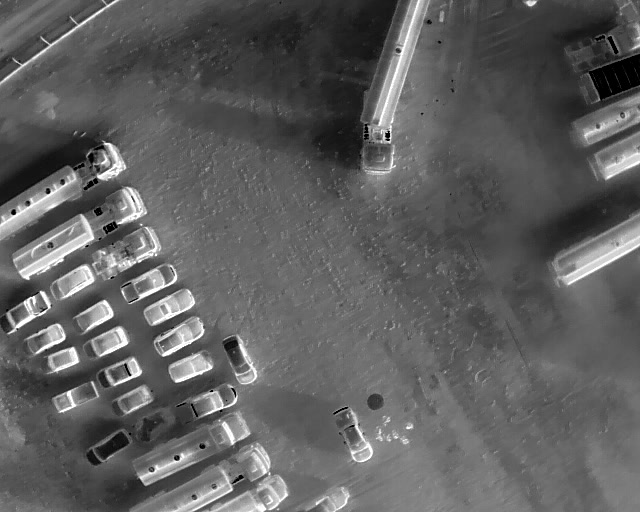car: (118, 264, 179, 305), (177, 381, 237, 421), (0, 290, 53, 333), (334, 406, 373, 463), (153, 315, 206, 355), (84, 426, 133, 465), (221, 334, 258, 385), (144, 288, 195, 325), (79, 326, 132, 360), (48, 262, 94, 300), (94, 354, 144, 388), (18, 323, 65, 358), (168, 347, 213, 382), (51, 380, 100, 412), (32, 345, 80, 377), (70, 299, 115, 332), (295, 484, 349, 511), (108, 384, 154, 415)
person: (399, 434, 410, 445), (381, 414, 390, 427), (375, 435, 384, 444), (391, 428, 399, 438), (404, 422, 414, 429), (376, 427, 384, 435), (386, 433, 393, 442)
truck: (0, 140, 128, 244), (12, 186, 147, 281), (359, 0, 431, 175), (126, 440, 271, 512), (132, 412, 251, 487), (547, 209, 640, 286), (90, 222, 163, 281), (566, 94, 640, 151), (562, 23, 639, 68), (574, 55, 639, 102), (208, 474, 288, 512), (586, 128, 640, 182)
